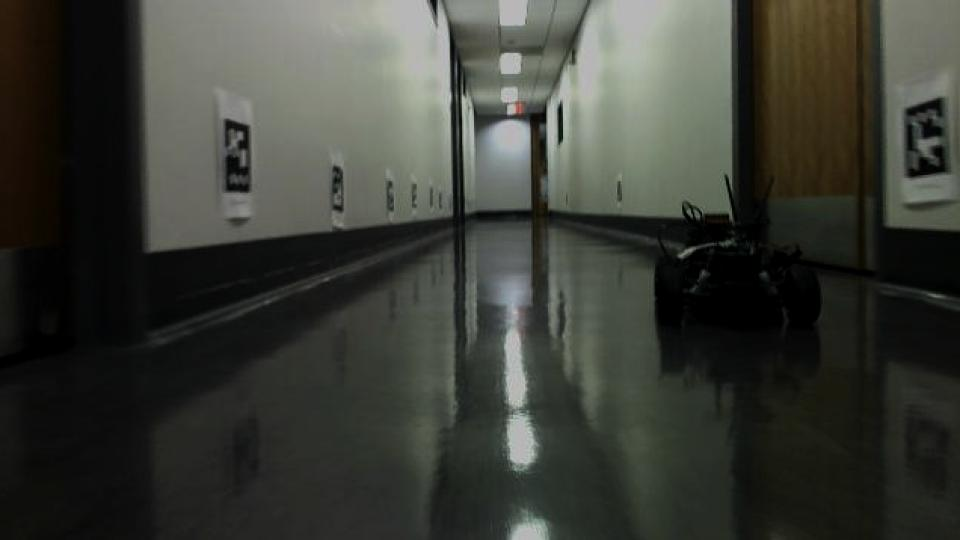car: (652, 170, 826, 330)
